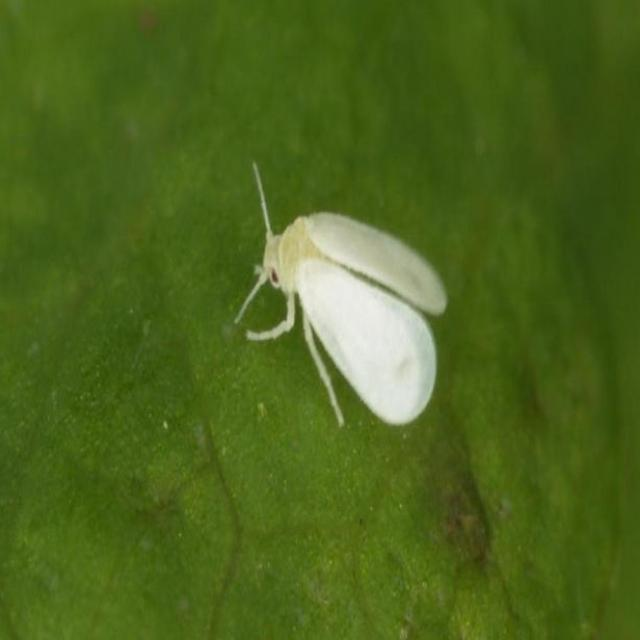Whitefly: (225, 140, 452, 449)
